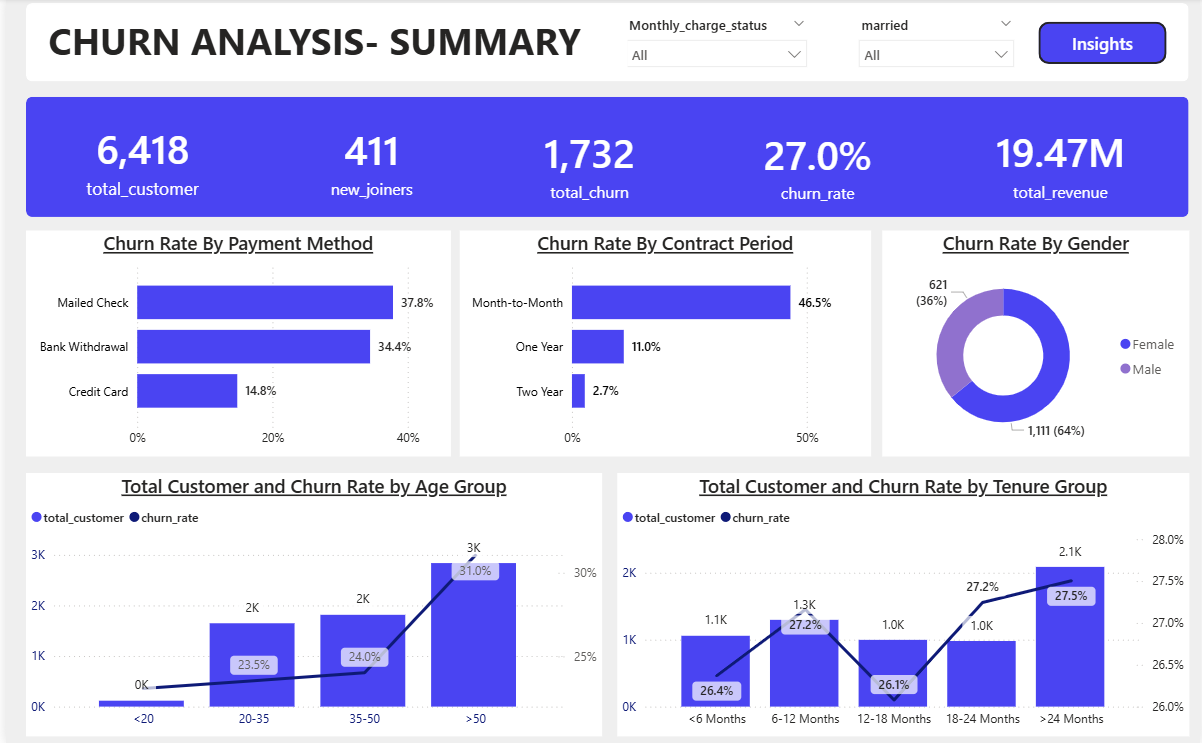

This screenshot's page, from the dashboard's own definition file:
{"tool":"powerbi","page":{"name":"summary","canvas":[1200,750],"ordinal":0},"visuals":[{"type":"shape","box":[20.4,99.2,1169,121],"z":0},{"type":"shape","box":[20.4,5.4,1169,78.8],"z":1000},{"type":"cardVisual","fields":{"Data":["Measure.total_churn"]},"box":[497.5,110.1,178.1,111.5],"z":2000},{"type":"cardVisual","fields":{"Data":["Measure.new_joiners"]},"box":[280.7,106,175.4,115.5],"z":3000},{"type":"cardVisual","fields":{"Data":["Measure.total_customer"]},"box":[36.7,106,202.5,114.2],"z":4000},{"type":"cardVisual","fields":{"Data":["Measure.churn_rate"]},"box":[717,111.5,197.1,112.8],"z":5000},{"type":"donutChart","title":"Churn Rate By Gender","fields":{"Y":["Measure.total_churn"],"Category":["public prod_churn.gender"]},"box":[880.8,233.8,308.6,227],"z":6000},{"type":"clusteredBarChart","title":"Churn Rate By Payment Method","fields":{"Category":["public prod_churn.payment_method"],"Y":["Measure.churn_rate"]},"box":[20.4,233.8,426.8,227],"z":7000},{"type":"clusteredBarChart","title":"Churn Rate By Contract Period","fields":{"Y":["Measure.churn_rate"],"Category":["public prod_churn.contract"]},"box":[456.7,233.8,413.2,227],"z":8000},{"type":"cardVisual","fields":{"Data":["Measure.total_revenue"]},"box":[955.6,111.5,210.7,108.7],"z":9000},{"type":"lineStackedColumnComboChart","title":"Total Customer and Churn Rate by Tenure Group","fields":{"Category":["maping_tenure_gorup.tenure_group"],"Y":["Measure.total_customer"],"Y2":["Measure.churn_rate"]},"box":[614.4,477.1,575,265.1],"z":10000},{"type":"lineStackedColumnComboChart","title":"Total Customer and Churn Rate by Age Group","fields":{"Category":["maping_age_group.age_group"],"Y":["Measure.total_customer"],"Y2":["Measure.churn_rate"]},"box":[20.4,477.1,579.1,265.1],"z":11000},{"type":"slicer","fields":{"Values":["public prod_churn.Monthly_charge_status"]},"box":[613.6,12.9,202,64.3],"z":12000},{"type":"slicer","fields":{"Values":["public prod_churn.married"]},"box":[846.5,12.9,176.2,64.3],"z":13000},{"type":"textbox","box":[38.1,12.2,587.2,63.9],"z":14000},{"type":"shape","box":[1038.2,24.4,128.6,42.5],"z":15000}]}

Visuals, with their boxes in screenshot pixels (x1, y1, x2, y2), scaled from the page's 1200x750 canvas onto the 1202x743 screenshot:
shape: Rect(20, 98, 1191, 218)
shape: Rect(20, 5, 1191, 83)
cardVisual - Measure.total_churn: Rect(498, 109, 677, 220)
cardVisual - Measure.new_joiners: Rect(281, 105, 457, 219)
cardVisual - Measure.total_customer: Rect(37, 105, 240, 218)
cardVisual - Measure.churn_rate: Rect(718, 110, 916, 222)
"Churn Rate By Gender" donutChart: Rect(882, 232, 1191, 456)
"Churn Rate By Payment Method" clusteredBarChart: Rect(20, 232, 448, 456)
"Churn Rate By Contract Period" clusteredBarChart: Rect(457, 232, 871, 456)
cardVisual - Measure.total_revenue: Rect(957, 110, 1168, 218)
"Total Customer and Churn Rate by Tenure Group" lineStackedColumnComboChart: Rect(615, 473, 1191, 735)
"Total Customer and Churn Rate by Age Group" lineStackedColumnComboChart: Rect(20, 473, 600, 735)
slicer - public prod_churn.Monthly_charge_status: Rect(615, 13, 817, 76)
slicer - public prod_churn.married: Rect(848, 13, 1024, 76)
textbox: Rect(38, 12, 626, 75)
shape: Rect(1040, 24, 1169, 66)
